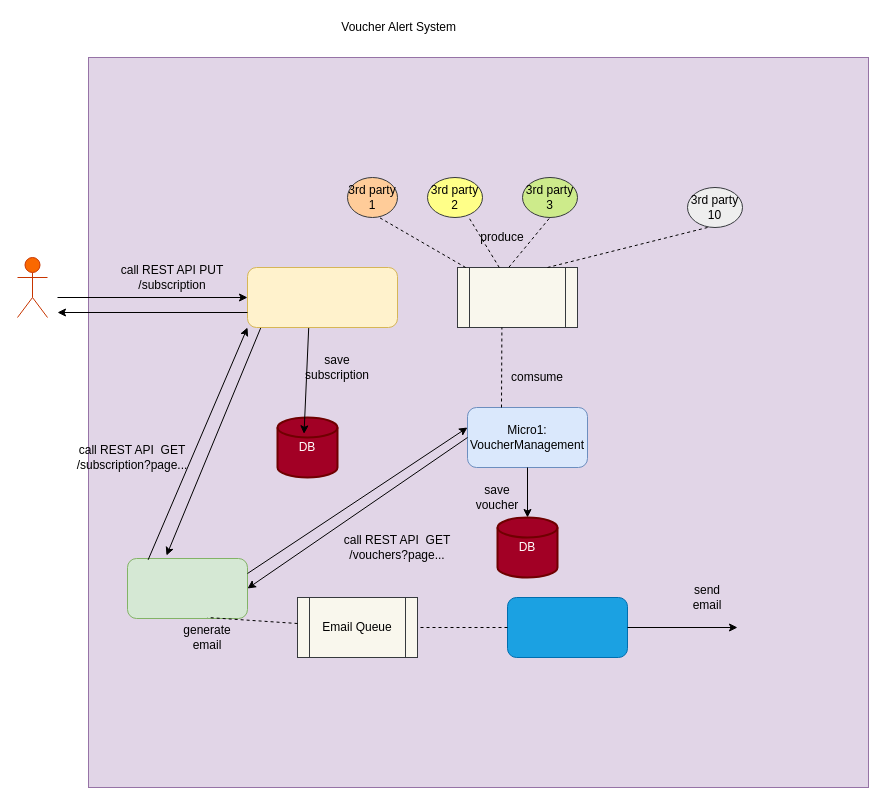
Image size: 886x805. Some labels were removed from this diagram. Here are the shapes that lost their labels. From the top down, the box of each, then its label:
(246, 266, 398, 328): Micro0: SubcriptionManagement
(456, 266, 578, 328): Voucher Queue
(126, 558, 248, 618): Micro2: EmailGenerator
(506, 596, 628, 658): Micro3: EmailSender
